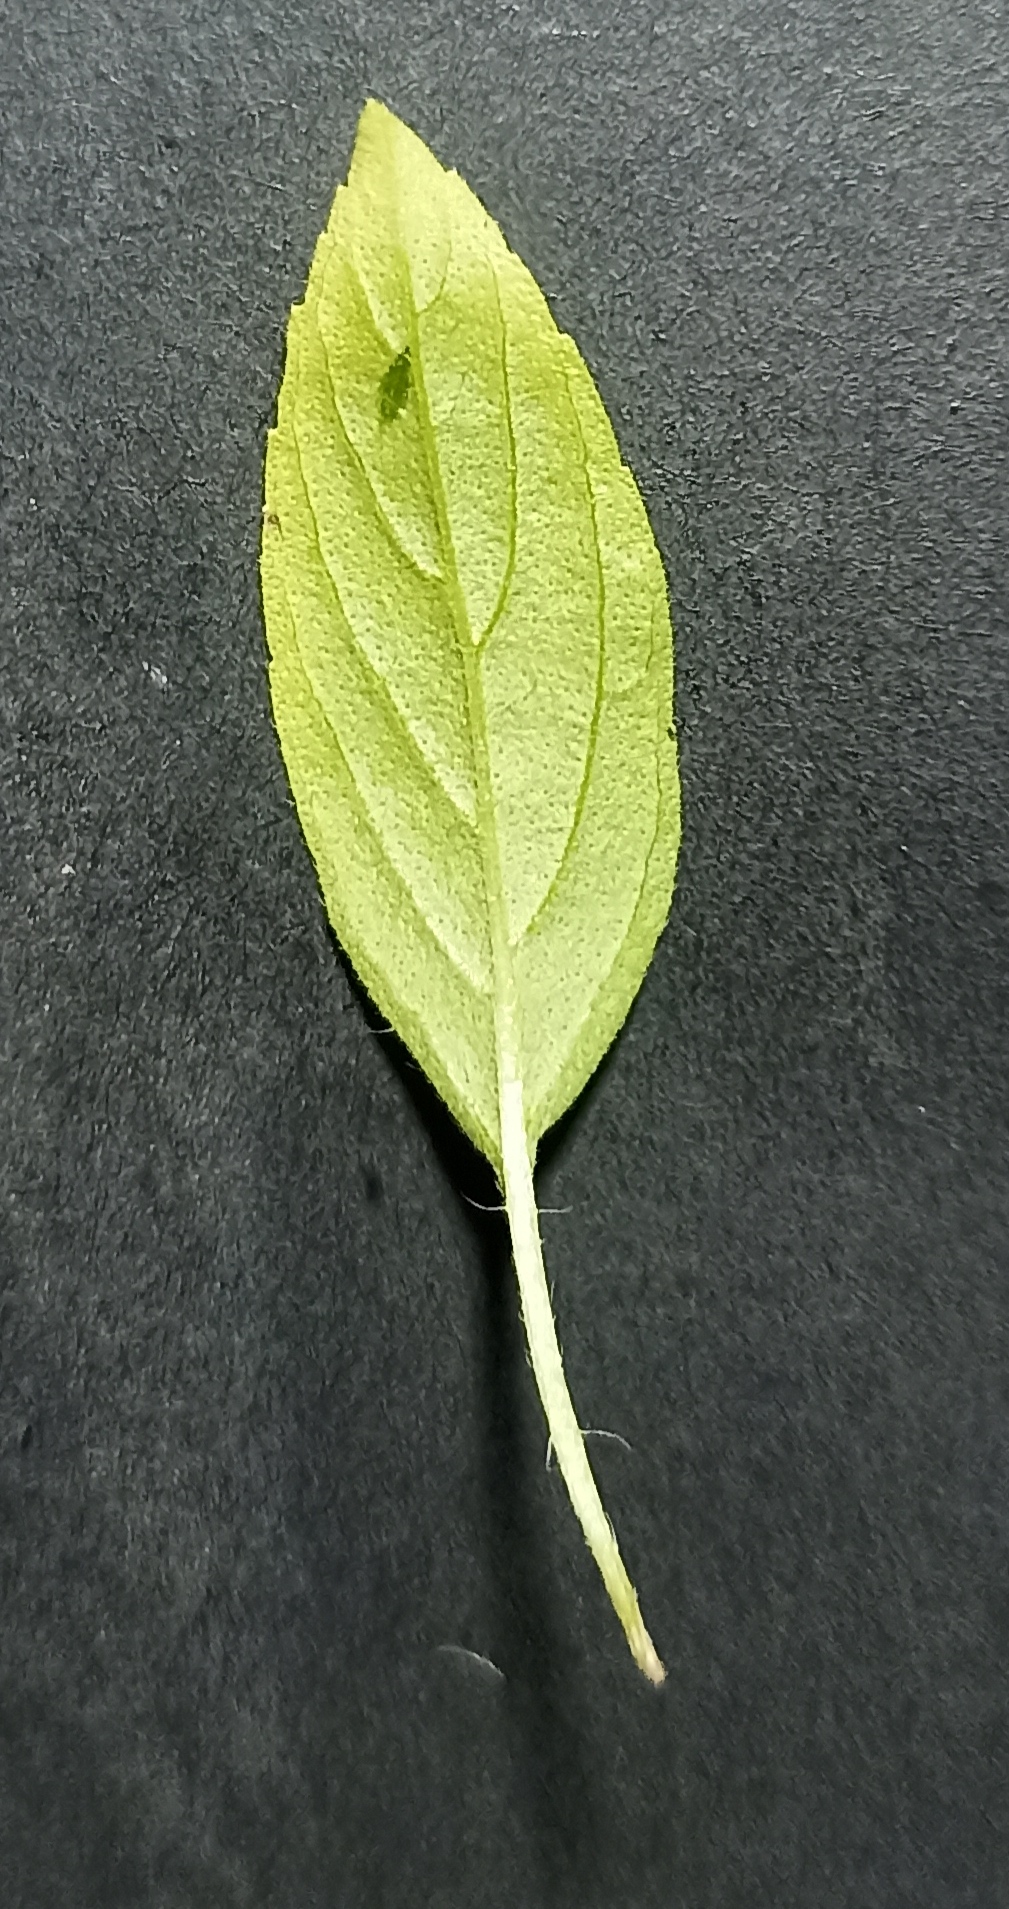Unhealthy: (212, 65, 695, 1268)
